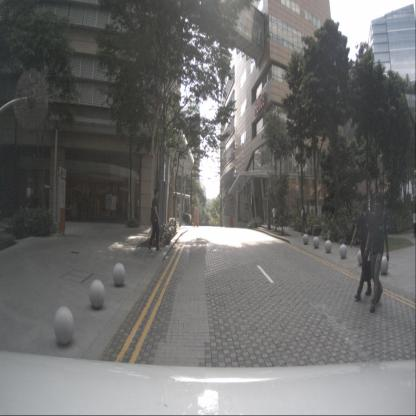human-pedestrian-adult: (364, 196, 390, 312), (350, 196, 375, 301), (147, 187, 162, 253), (301, 205, 307, 235), (271, 205, 276, 227), (68, 200, 73, 221), (412, 208, 415, 238)
